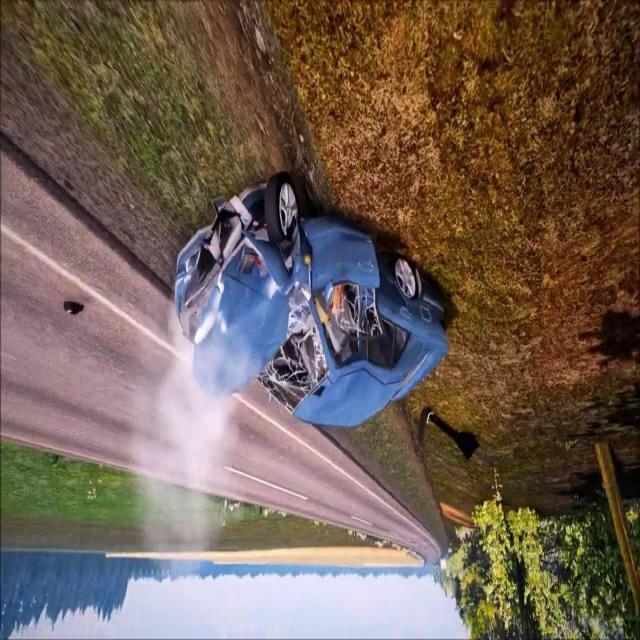severe: (170, 172, 450, 432)
